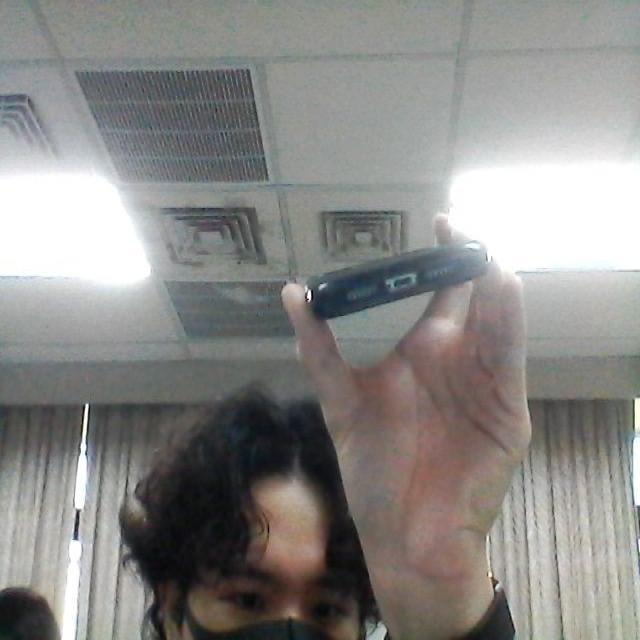Phone: (305, 246, 495, 324)
